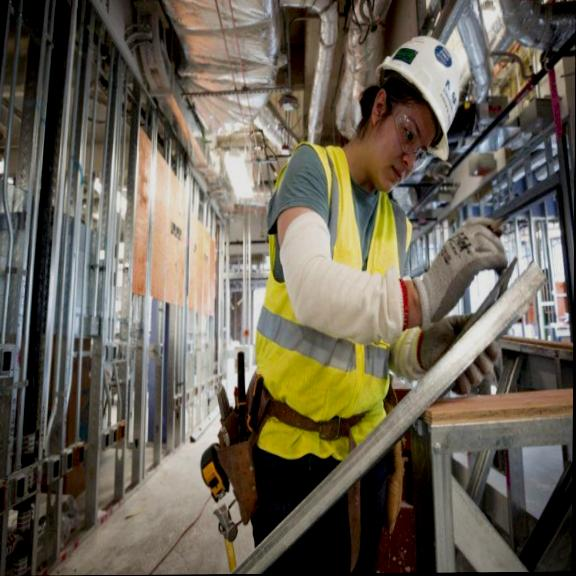safety_vest: (259, 132, 424, 447)
